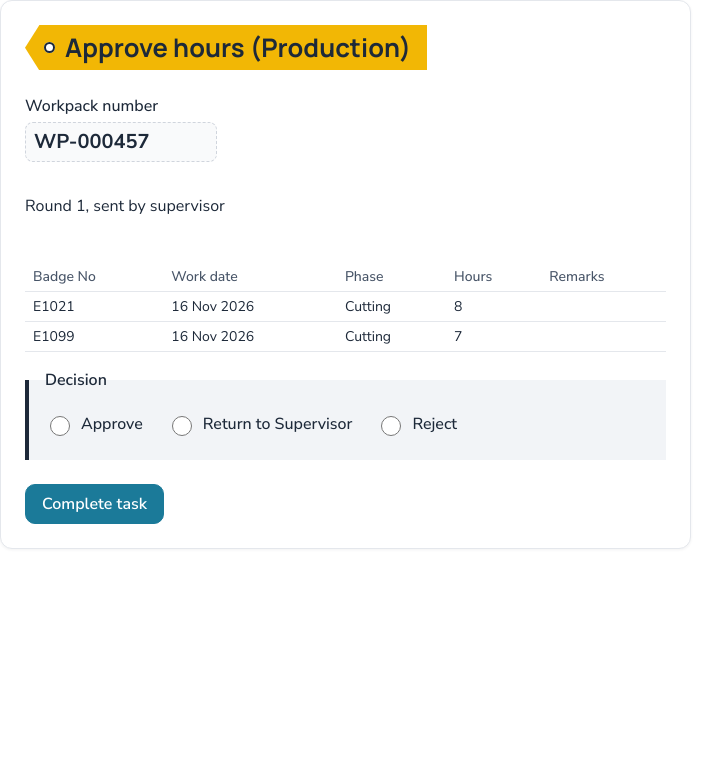
Test: ApproveHoursProduction › BPA56_returnOrRejectNeedsAReason (Return to Supervisor)
Check: the text "E1021" is shown, box [25,292,163,322]
Click the radio button labelled "Return to Supervisor": point(182, 426) [172,416,192,436]
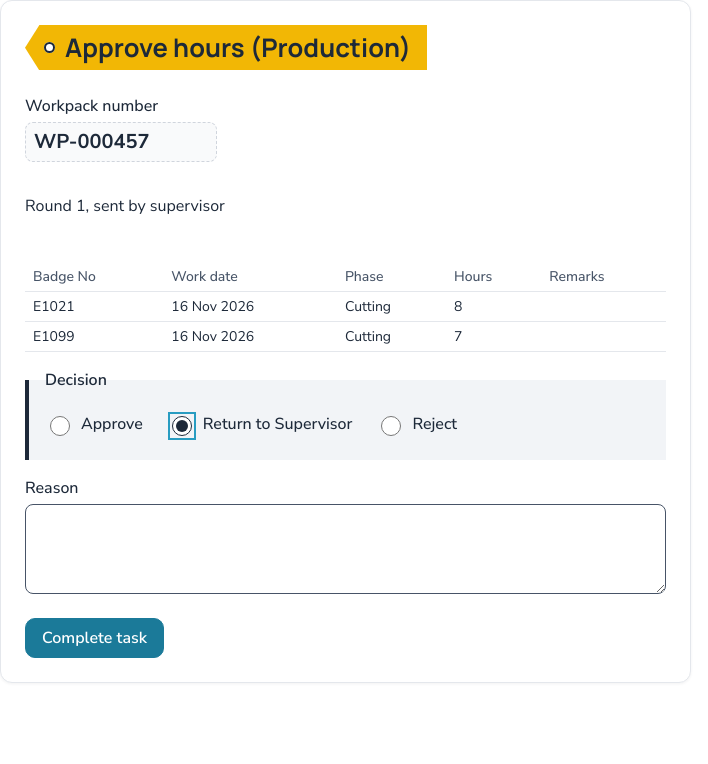
Click the button "Complete task": point(94, 638) [25,618,164,658]
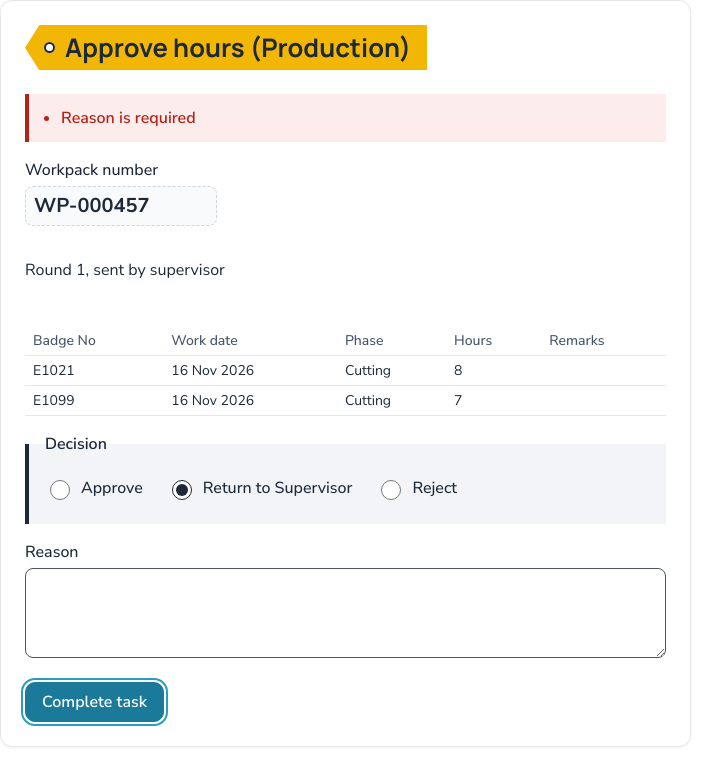
Check: the list item "Reason is required" is shown, box [61,107,196,129]
